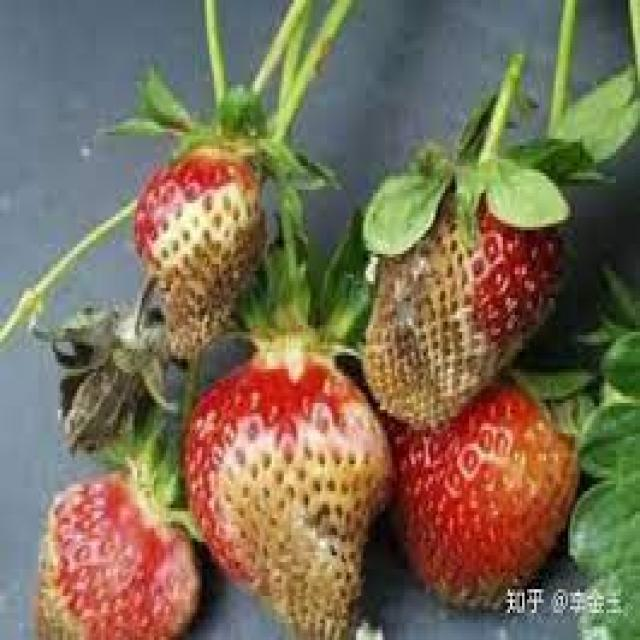Podredumbre de cuero: (188, 380, 392, 624), (367, 166, 542, 424), (15, 456, 191, 640), (129, 148, 275, 356)
